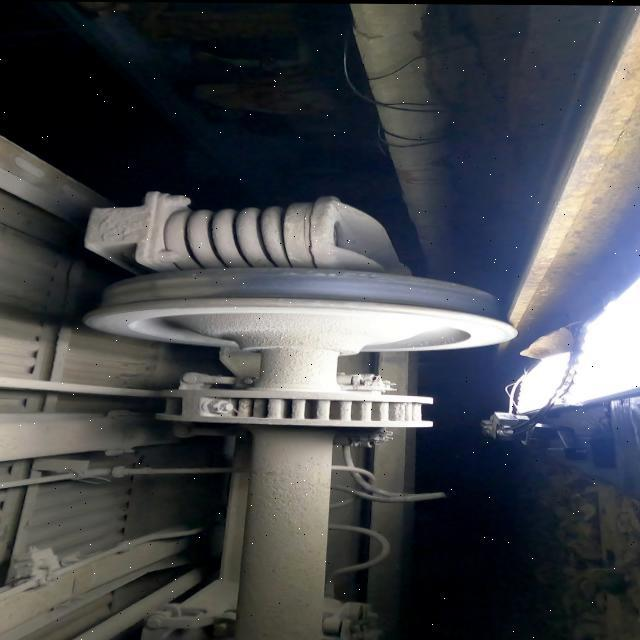Cracks-Scratches: (307, 268, 381, 280)
Shelling: (102, 276, 237, 306)
Wheel: (84, 266, 518, 353)
